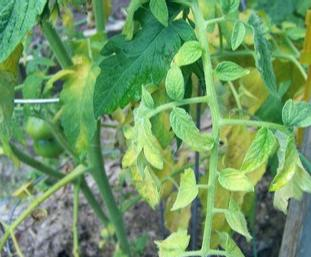Tomato leaf yellow virus: (58, 30, 109, 182), (159, 107, 211, 156), (233, 120, 274, 173), (159, 45, 189, 105), (216, 162, 256, 197)
